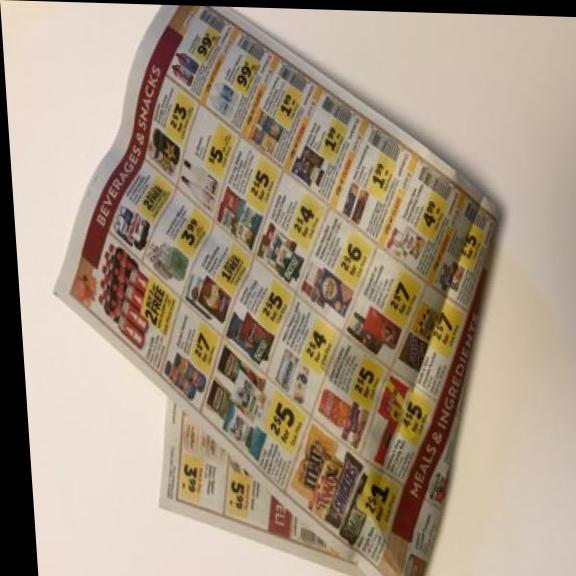Kertas: (30, 1, 532, 576)
